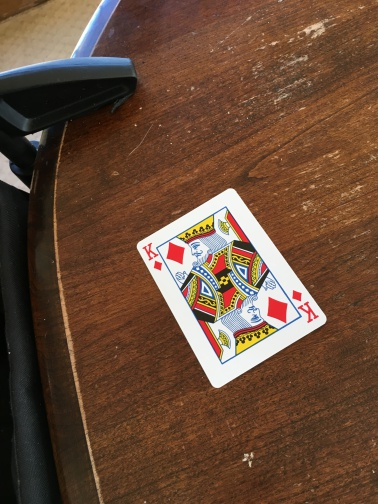king: (136, 187, 330, 388)
